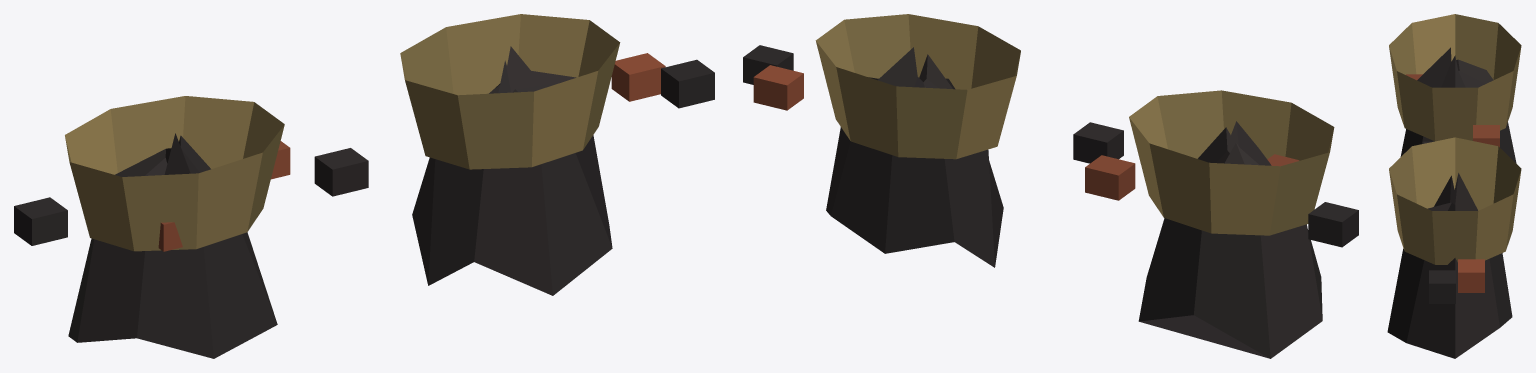
The model's file is walk_prop_goods_iron_ore.glb.
3 views of the same model, side by side, from view 1: azimuth 30°, elevation 25°; view 2: azimuth 150°, elevation 25°; view 3: azimuth 270°, elevation 25° (orthographic). The views are drawn at different scales.
Visible parts, largest first — view 1: walk_prop_goods_iron_ore; view 2: walk_prop_goods_iron_ore; view 3: walk_prop_goods_iron_ore.
Part boxes in pixels (<box>): walk_prop_goods_iron_ore: <box>14,14,714,358</box>; walk_prop_goods_iron_ore: <box>743,14,1358,358</box>; walk_prop_goods_iron_ore: <box>1387,14,1521,358</box>.
Size of the model in its own units: 2.57 by 0.8067 by 0.5972.
Materials: 1 (1 with a texture image).
